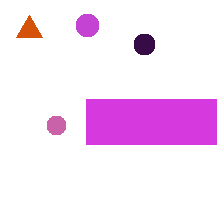circle: (76, 14, 98, 36), (134, 34, 154, 54), (47, 116, 65, 134)
rectangle: (86, 99, 216, 144)
triangle: (16, 15, 42, 37)
